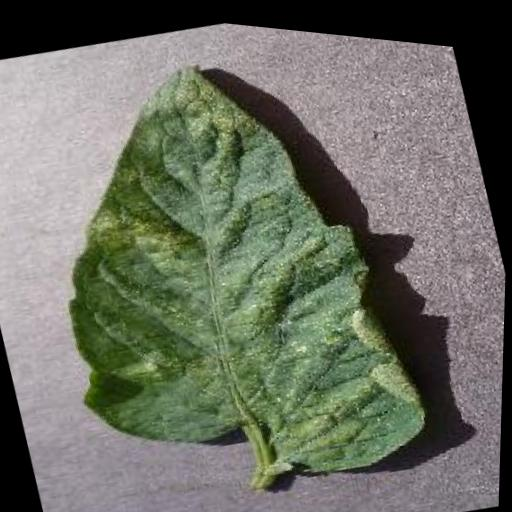Spider Mites: (5, 4, 449, 512)
